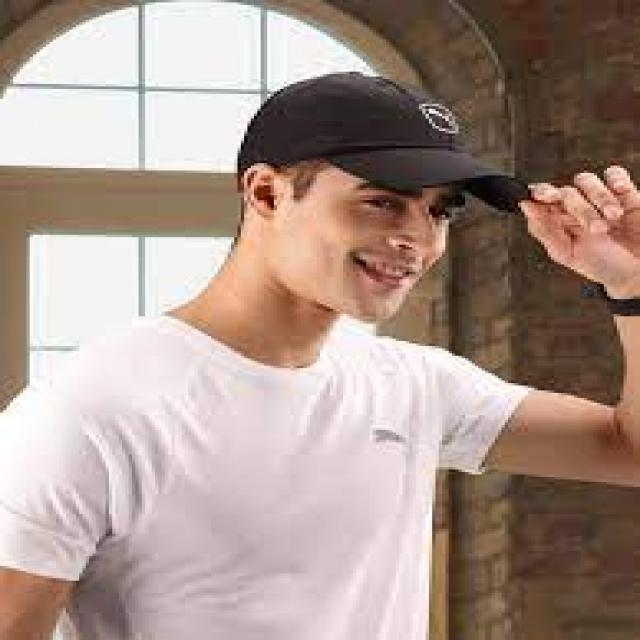suspicious-objects: (239, 72, 528, 209)
